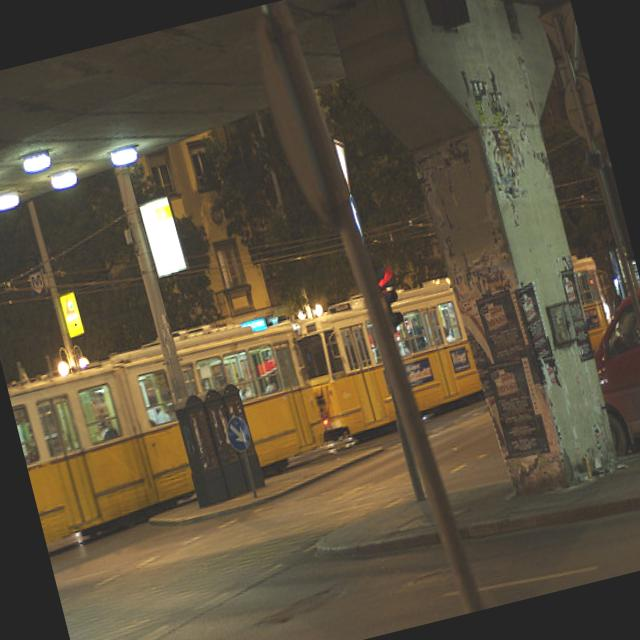Vehicle: (577, 283, 640, 457)
